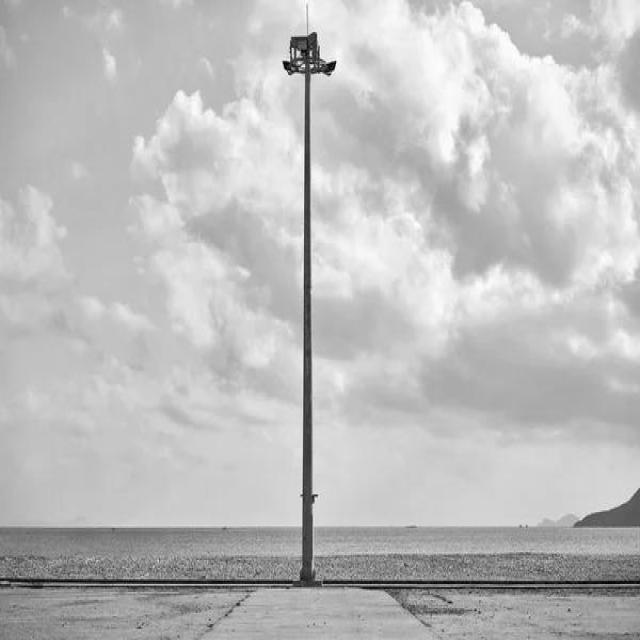Pole: (284, 30, 336, 585)
